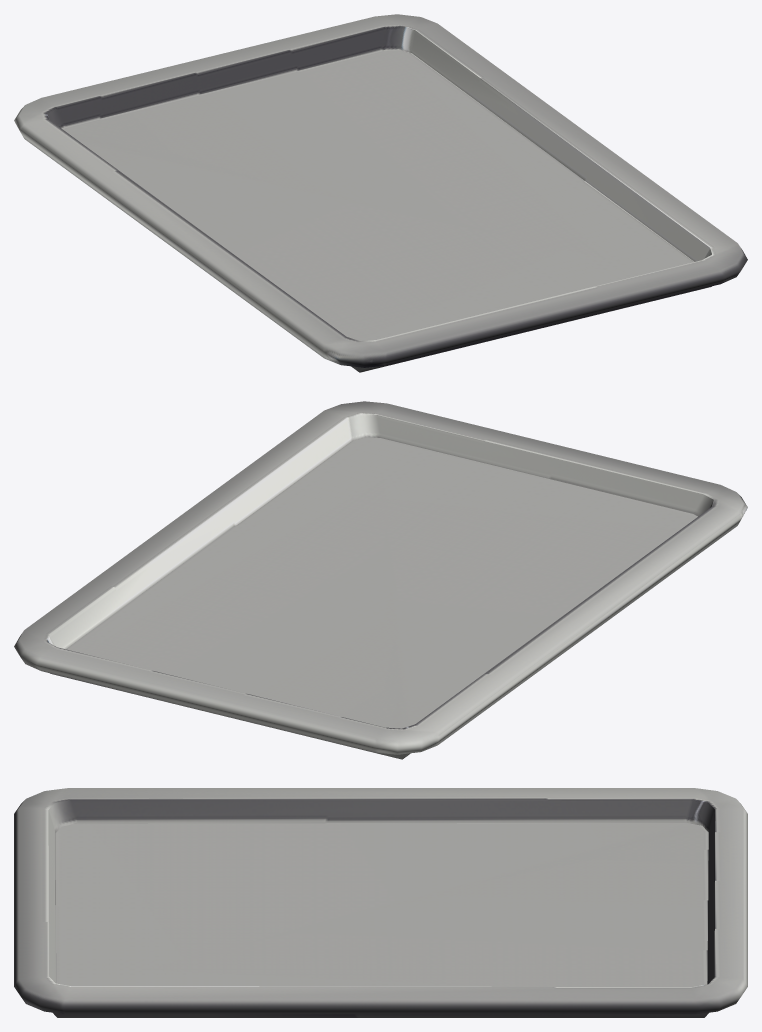
Rendered from SheetCake_Pan_01.fbx.
The picture shows the model from 3 angles, top to bottom: view 1: azimuth 30°, elevation 25°; view 2: azimuth 150°, elevation 25°; view 3: azimuth 270°, elevation 25°; orthographic projection. The views are drawn at different scales.
Visible parts, largest first — view 1: SheetCake_Pan_01; view 2: SheetCake_Pan_01; view 3: SheetCake_Pan_01.
Boxes of the visible parts, x1=… form: SheetCake_Pan_01: x1=14, y1=14, x2=747, y2=372; SheetCake_Pan_01: x1=14, y1=401, x2=747, y2=759; SheetCake_Pan_01: x1=14, y1=788, x2=747, y2=1017.
Bounding box in the file's own units: 104 × 7.77 × 150.
